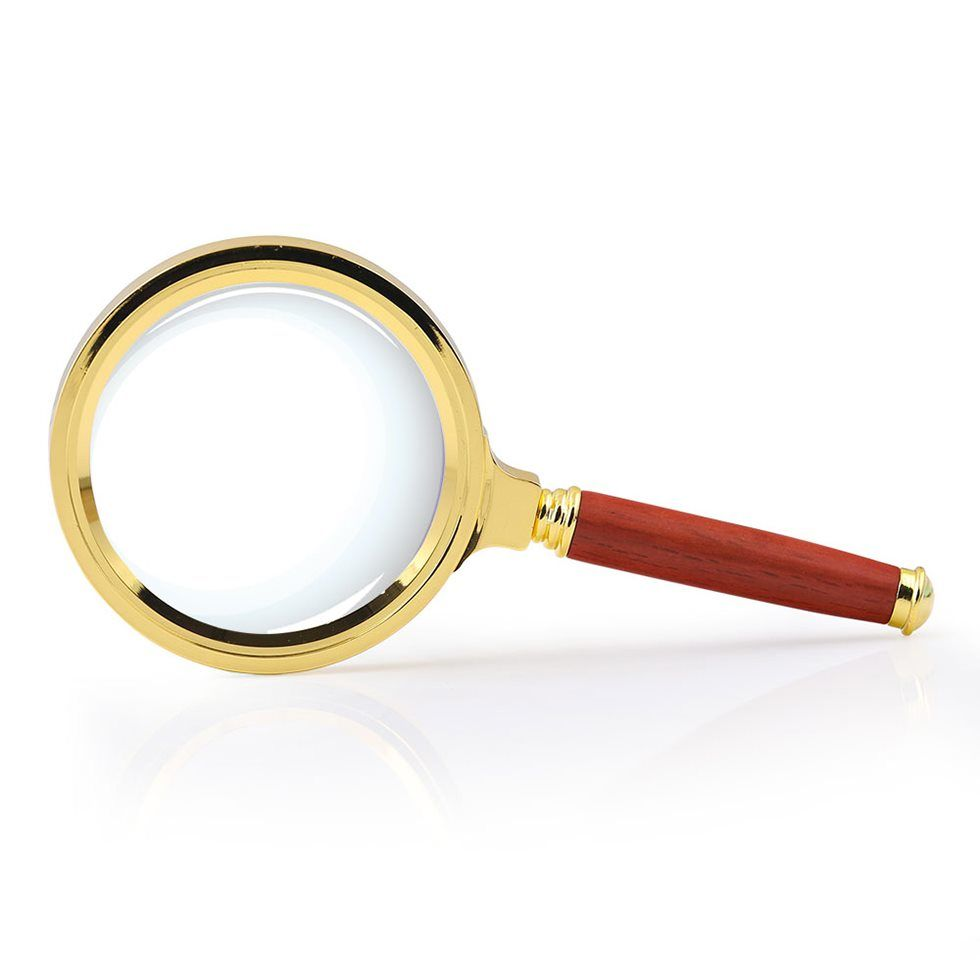magnifying-glass: (25, 219, 662, 687)
